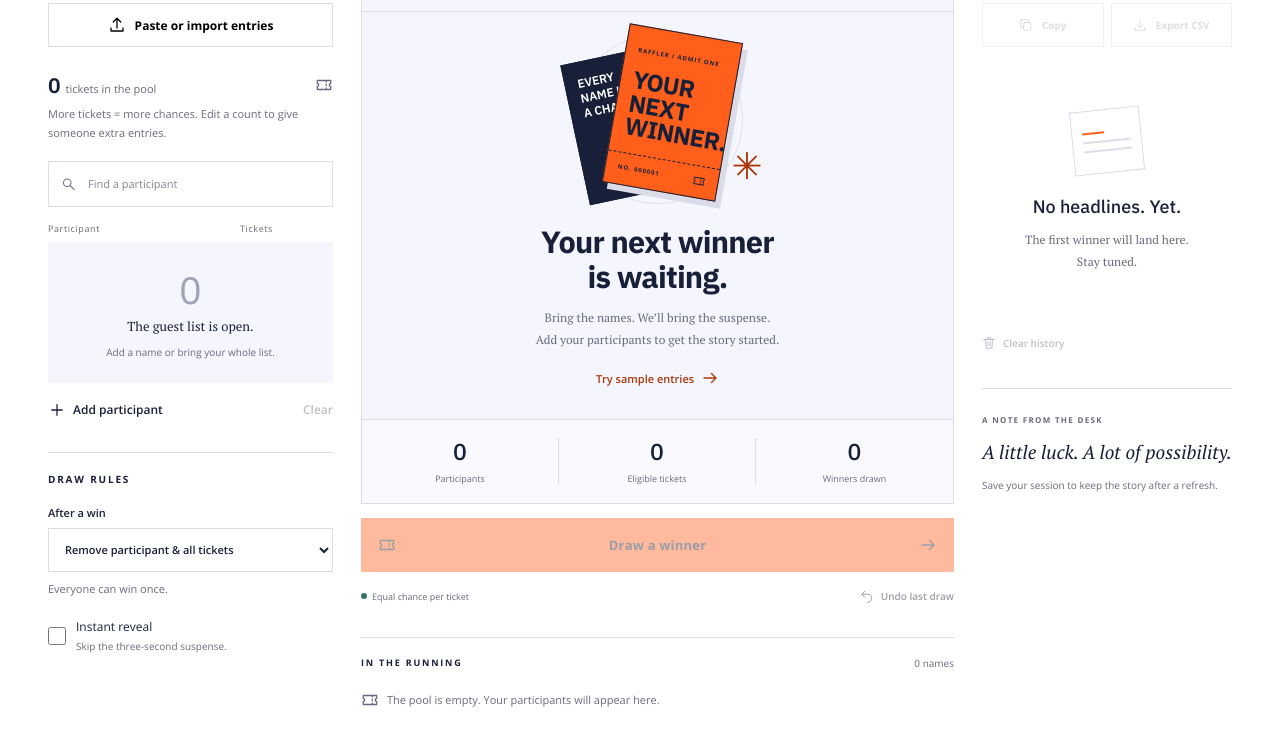
instant and reduced-motion draws finish without a suspense timer
(page scrolled)
Click the button "Try sample entries": (658, 378) [596,356,719,400]
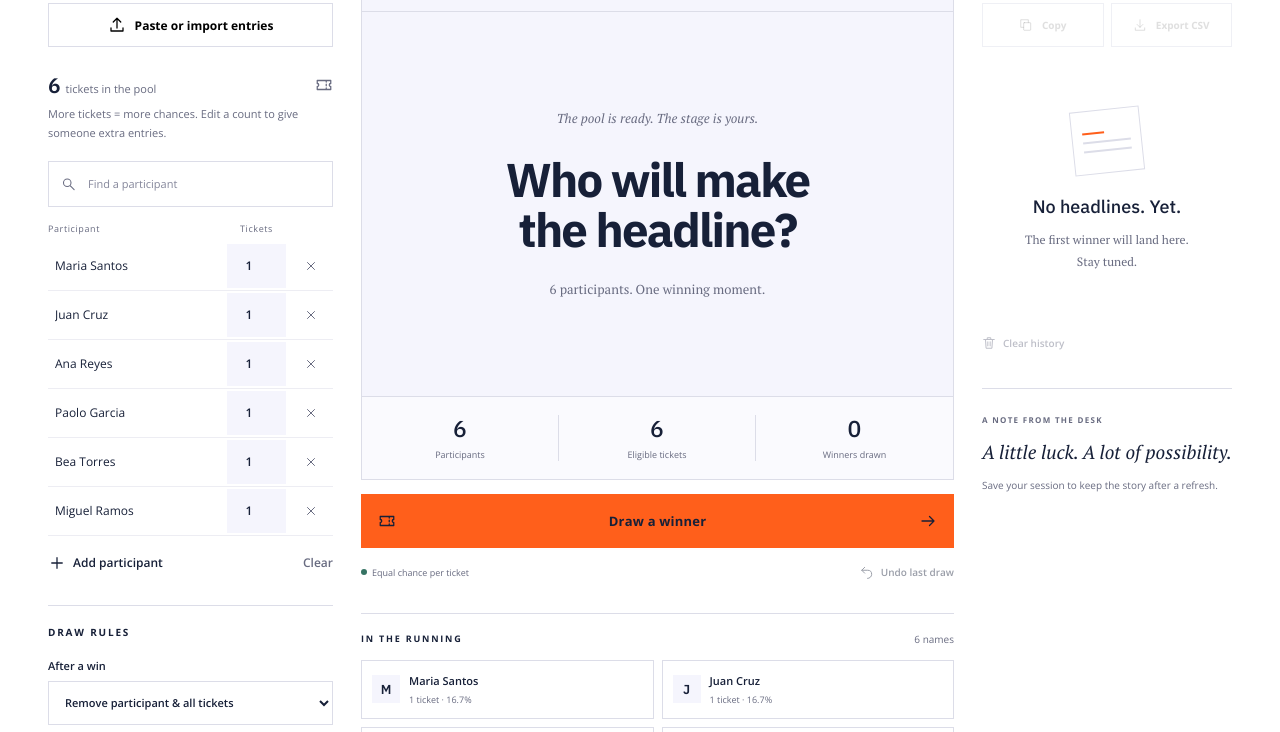
Click the button "Draw a winner": (658, 521) [361,494,954,548]
(page scrolled)
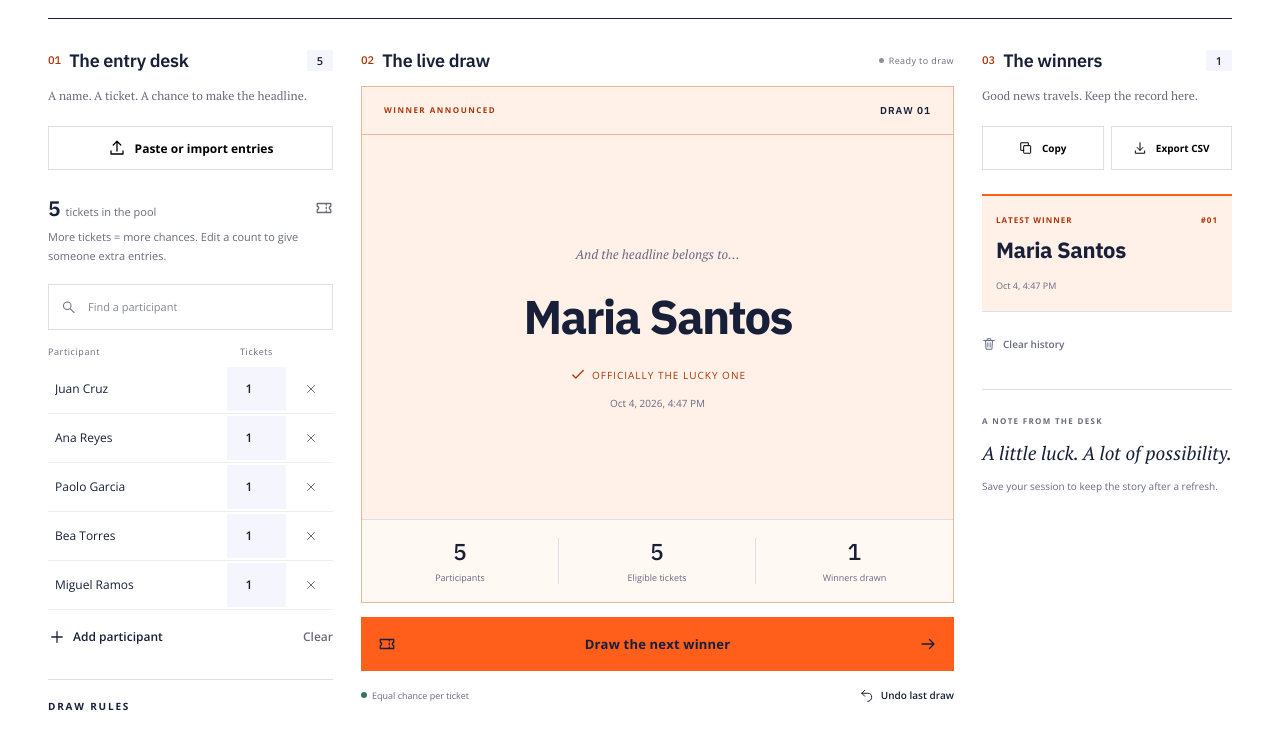
Expected: the text "WINNER ANNOUNCED" is shown, [384,104,496,116]
